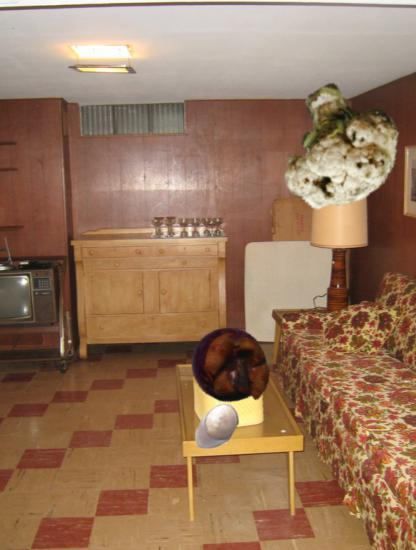Cauliflower: (271, 82, 401, 212)
Hazelnut: (189, 400, 243, 454)
Mangostan: (190, 324, 274, 408)
